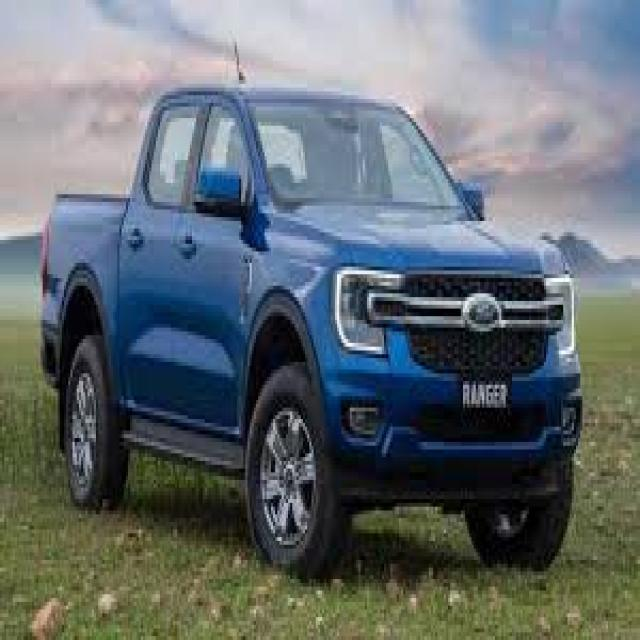Pickup Trucks: (38, 84, 584, 586)
